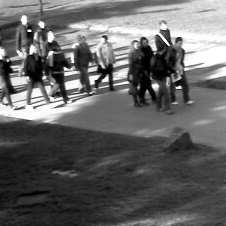person: (169, 37, 196, 105), (21, 43, 51, 104), (151, 42, 176, 114), (47, 41, 70, 103), (93, 31, 117, 90), (73, 32, 92, 95), (15, 14, 34, 77), (139, 36, 156, 104), (126, 39, 142, 108), (1, 46, 16, 110), (32, 18, 51, 57), (155, 20, 173, 50), (45, 28, 63, 54)
